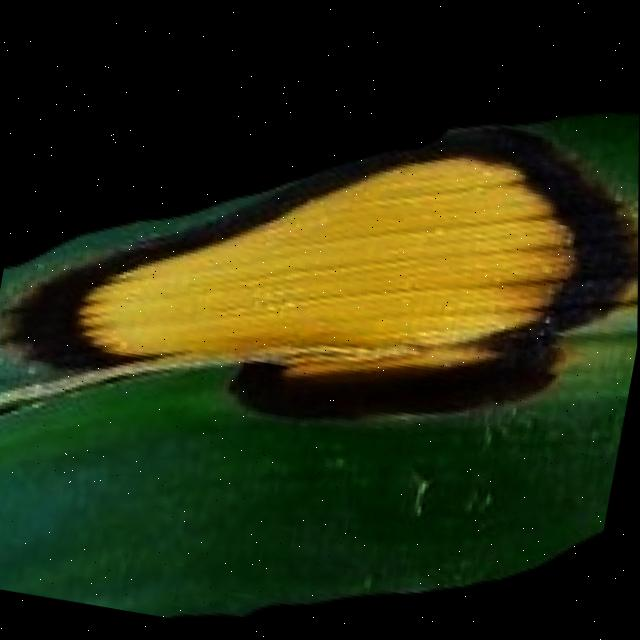mite: (111, 439, 606, 638), (111, 592, 309, 638), (395, 457, 507, 536), (403, 465, 444, 519), (463, 478, 502, 519)
